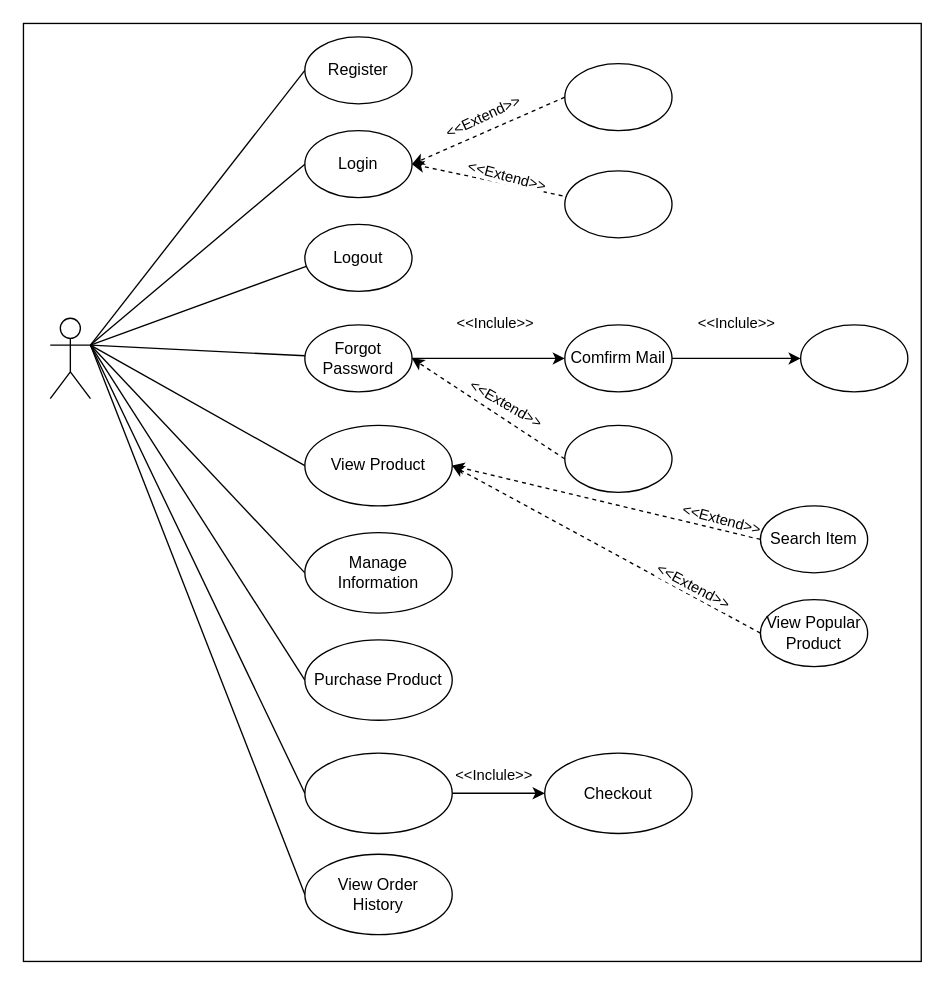
Some shapes in this 945 by 985 pixel diagram are drawn without their labels. The shapes that lost their labels are listed below. From the top down, each one's centre as x and y in pixels, then its label:
(617,96): Verify Password
(617,204): Display Error
(69,358): Customer
(853,358): Comfirm OTP
(617,458): Send OTP
(378,792): Add to shopping cart
